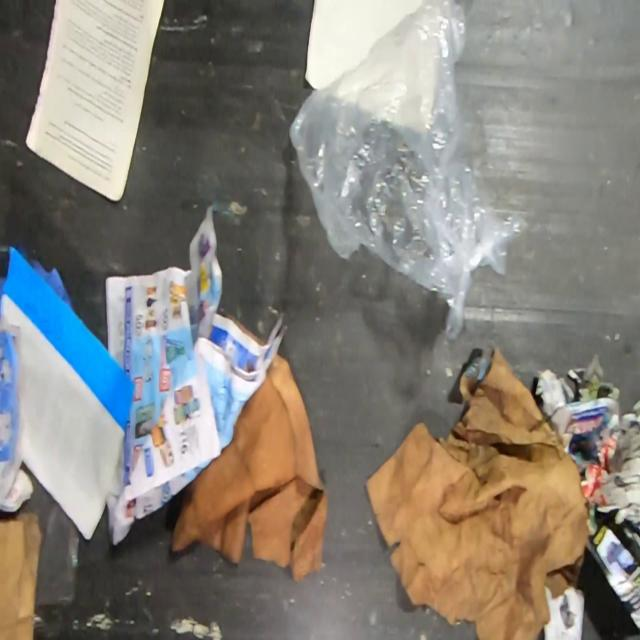cardboard: (0, 508, 43, 640)
soft_plastic: (286, 0, 530, 344), (0, 243, 138, 431), (21, 466, 81, 608), (0, 325, 24, 499), (30, 256, 74, 310)
